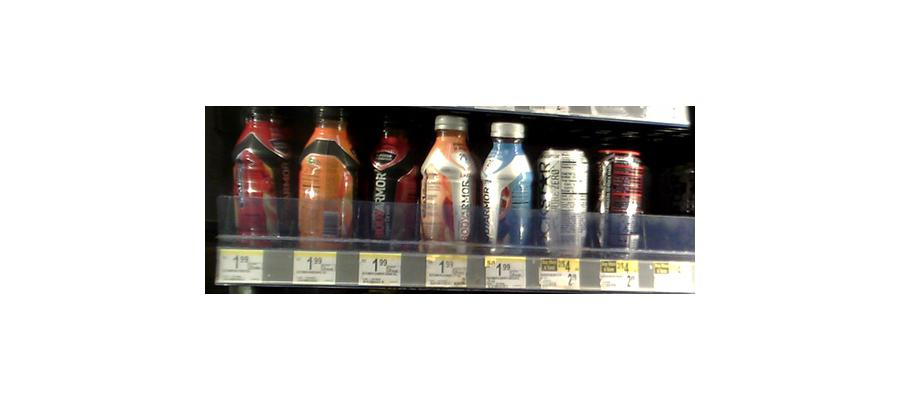bottle: (296, 101, 358, 245), (229, 105, 288, 243), (418, 109, 475, 249), (479, 117, 534, 257), (541, 141, 592, 261), (368, 116, 414, 246), (597, 146, 648, 258)
